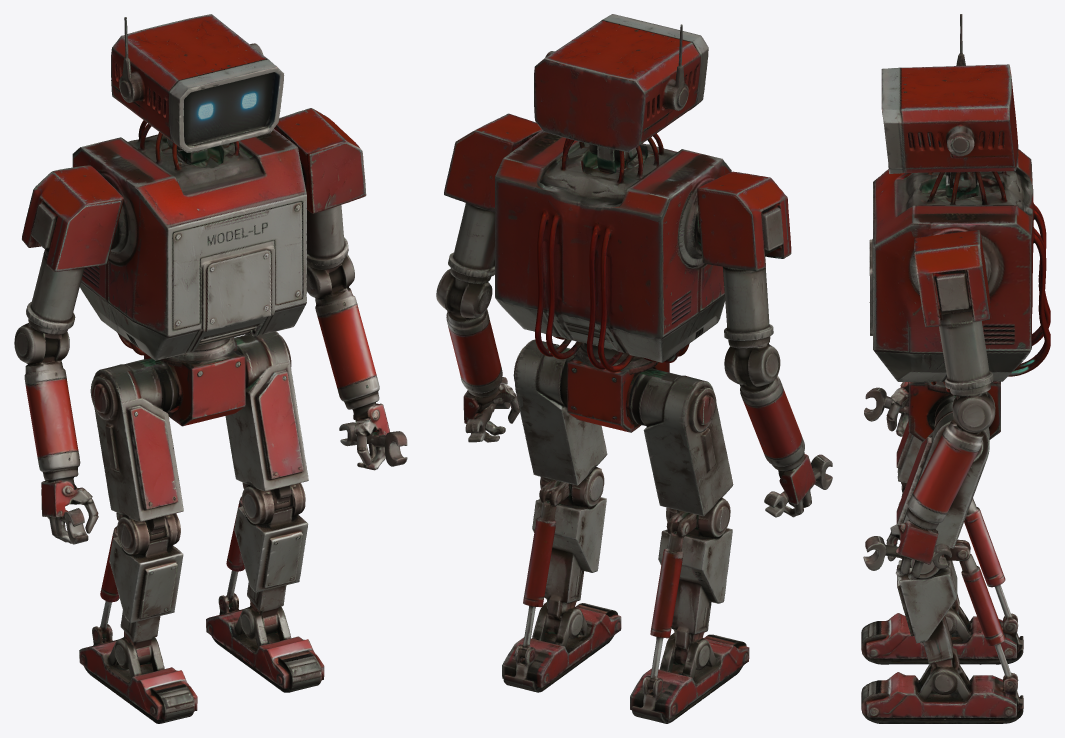
The model's file is Meshy_AI_Model_LP_Robot_0607002057_texture.glb.
3 views of the same model, side by side, from view 1: azimuth 30°, elevation 25°; view 2: azimuth 150°, elevation 25°; view 3: azimuth 270°, elevation 25° (orthographic). The views are drawn at different scales.
Size of the model in its own units: 0.9921 by 1.9 by 0.5077.
Materials: 1 (1 with a texture image).
